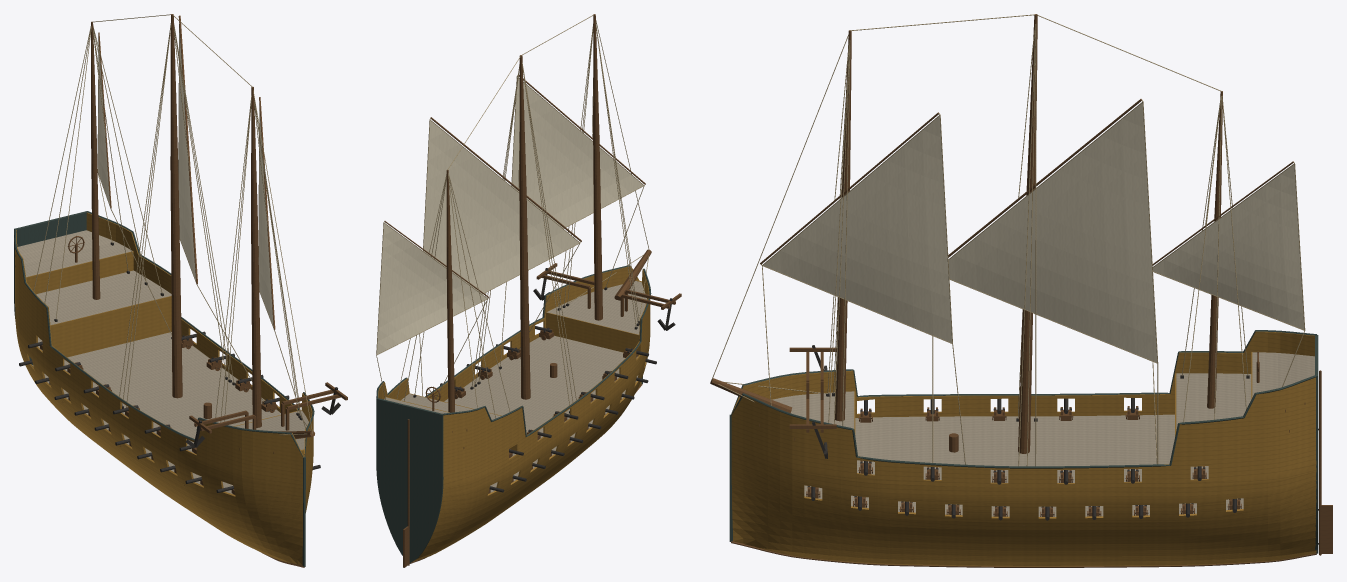
Rendered from ship.glb.
3 renders of one model, left to right at view 1: azimuth 30°, elevation 25°; view 2: azimuth 150°, elevation 25°; view 3: azimuth 270°, elevation 25°, orthographic. The views are drawn at different scales.
Visible parts, largest first — view 1: hull_shell_starboard, main_deck, castle_bulkhead_1_1, hull_shell_port, castle_deck_1, main, castle_deck_0, fore, castle_bulkhead_0_1, main_lateen_00, mizzen, stern_closure (+16 smaller); view 2: hull_shell_starboard, main_lateen_00, fore_lateen_00, stern_closure, main_deck, mizzen_lateen_00, hull_shell_port, main, castle_deck_2, fore, castle_bulkhead_2_minus_1, mizzen (+9 smaller); view 3: hull_shell_port, main_lateen_00, fore_lateen_00, main_deck, mizzen_lateen_00, hull_shell_starboard, castle_deck_1, main, fore, castle_deck_0, gunwale_port, mizzen (+5 smaller).
Part boxes in pixels (<box>): hull_shell_starboard: <box>15,230,303,565</box>; main_deck: <box>38,332,280,452</box>; castle_bulkhead_1_1: <box>50,296,171,357</box>; hull_shell_port: <box>86,212,313,512</box>; castle_deck_1: <box>36,270,171,325</box>; main: <box>170,14,182,398</box>; castle_deck_0: <box>17,230,132,277</box>; fore: <box>251,87,261,427</box>; castle_bulkhead_0_1: <box>26,251,133,294</box>; main_lateen_00: <box>178,32,195,280</box>; mizzen: <box>91,21,100,299</box>; stern_closure: <box>14,211,86,364</box>; hull_shell_starboard: <box>412,269,650,561</box>; main_lateen_00: <box>423,120,579,293</box>; fore_lateen_00: <box>512,77,643,228</box>; stern_closure: <box>376,398,443,562</box>; main_deck: <box>444,335,637,456</box>; mizzen_lateen_00: <box>377,223,486,354</box>; hull_shell_port: <box>378,266,639,401</box>; main: <box>519,55,530,399</box>; castle_deck_2: <box>547,281,647,334</box>; fore: <box>593,14,602,320</box>; castle_bulkhead_2_minus_1: <box>546,312,639,355</box>; mizzen: <box>446,169,454,412</box>; hull_shell_port: <box>731,377,1316,566</box>; main_lateen_00: <box>948,103,1157,362</box>; fore_lateen_00: <box>763,116,952,342</box>; main_deck: <box>855,414,1208,482</box>; mizzen_lateen_00: <box>1153,164,1304,329</box>; hull_shell_starboard: <box>731,331,1314,417</box>; castle_deck_1: <box>1176,373,1251,430</box>; main: <box>1018,14,1037,453</box>; fore: <box>835,30,851,421</box>; castle_deck_0: <box>1252,352,1314,397</box>; gunwale_port: <box>731,375,1317,468</box>; mizzen: <box>1207,91,1222,408</box>.
Bounding box in the file's own units: 11.58 × 34.22 × 34.88.
7 materials, 7 textured.
